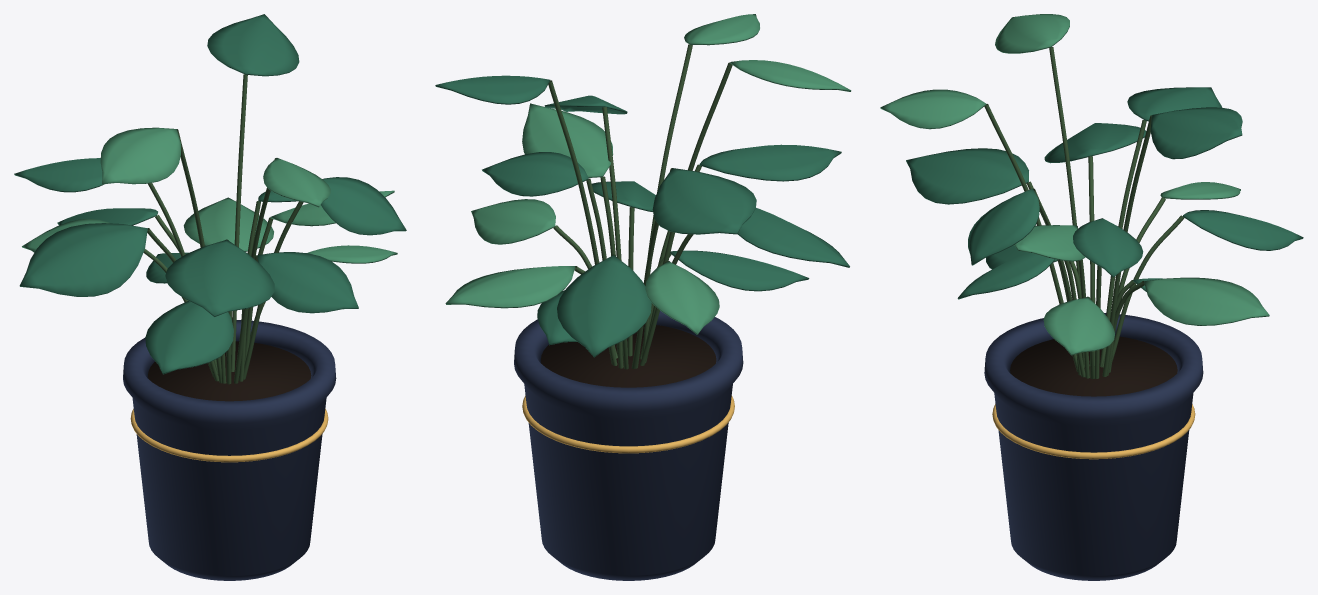
Rendered from plant.glb.
The picture shows the model from 3 angles, left to right: view 1: azimuth 30°, elevation 25°; view 2: azimuth 150°, elevation 25°; view 3: azimuth 270°, elevation 25°; orthographic projection. The views are drawn at different scales.
Parts seen in each view (by area): view 1: plant; view 2: plant; view 3: plant.
Boxes of the visible parts, x1,y1,x2,y2 form: plant: (14,14,406,580); plant: (435,14,851,580); plant: (880,14,1303,580).
Bounding box in the file's own units: 1.48 × 1.78 × 1.45.
